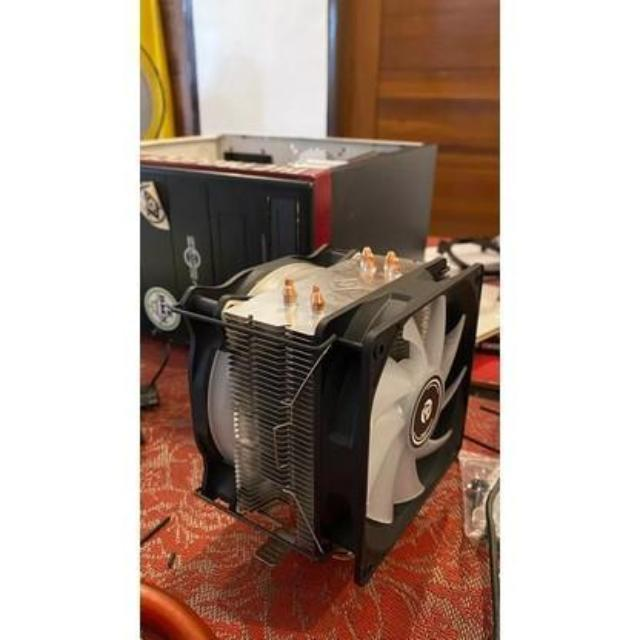CPU_Fan: (169, 234, 491, 592)
